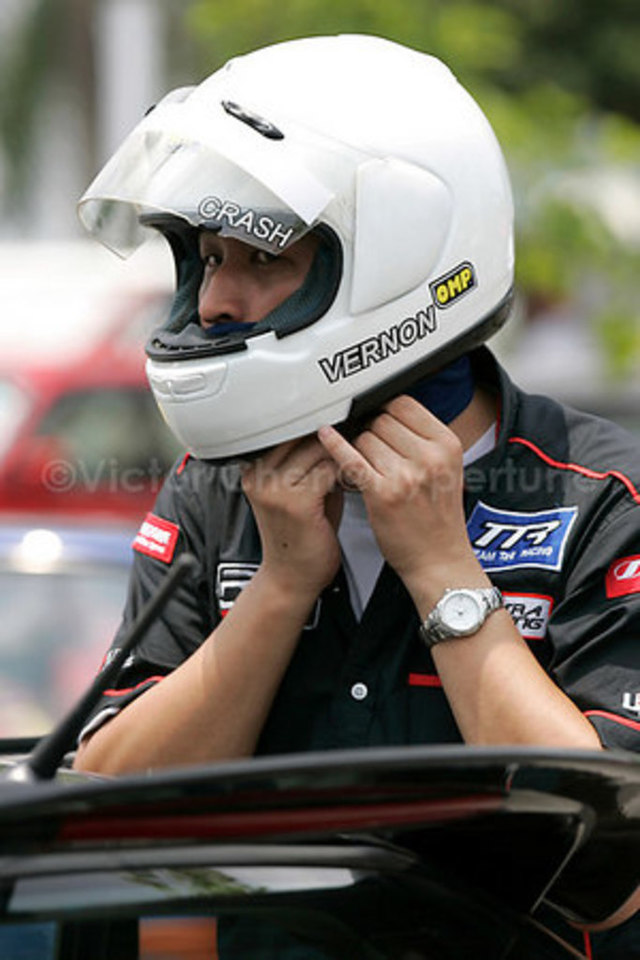helmet: (125, 34, 546, 418)
